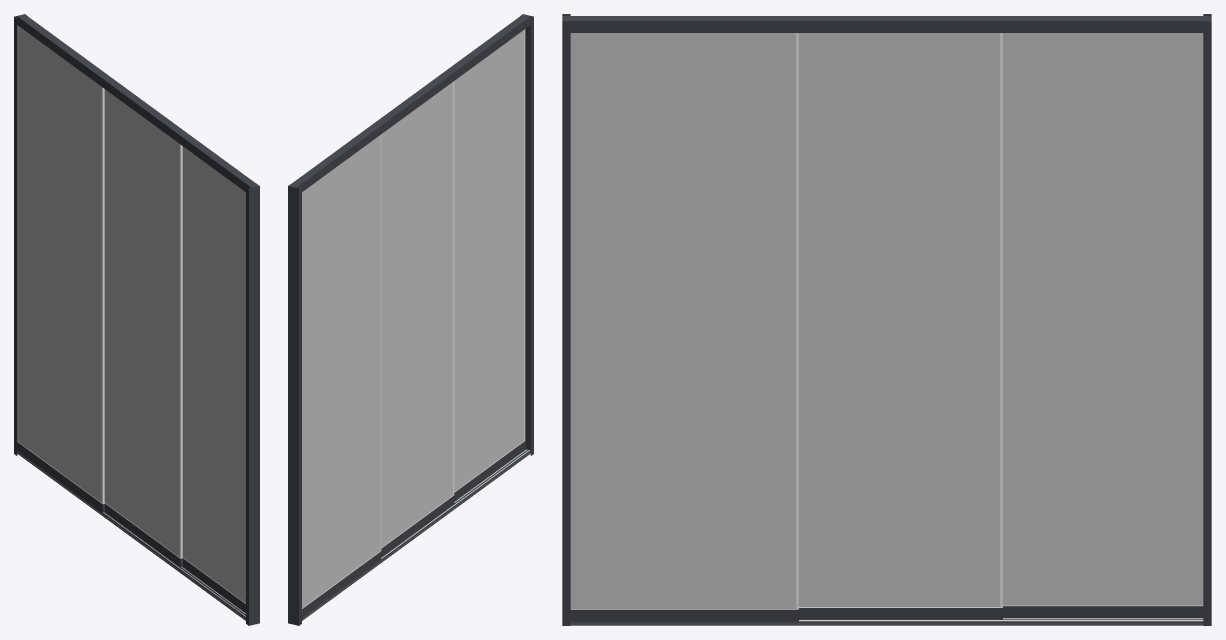
Rendered from nebbiolo_sliding_door_right.glb.
3 renders of one model, left to right at view 1: azimuth 30°, elevation 25°; view 2: azimuth 150°, elevation 25°; view 3: azimuth 270°, elevation 25°, orthographic. The views are drawn at different scales.
Visible parts, largest first — view 1: sliding_door_right_400_250; view 2: sliding_door_right_400_250; view 3: sliding_door_right_400_250.
Part boxes in pixels (<box>): sliding_door_right_400_250: <box>14,14,259,625</box>; sliding_door_right_400_250: <box>288,14,533,625</box>; sliding_door_right_400_250: <box>562,14,1211,625</box>.
Size of the model in its own units: 0.065 by 2.5 by 2.43.
Materials: 3 (1 with a texture image).
